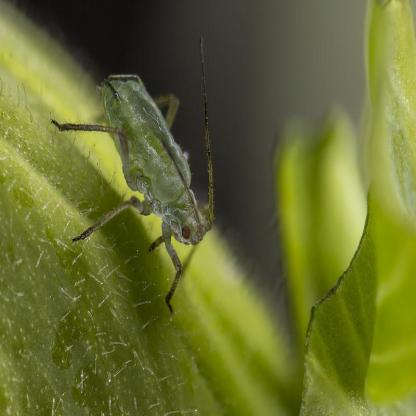aphid: (46, 44, 226, 312)
